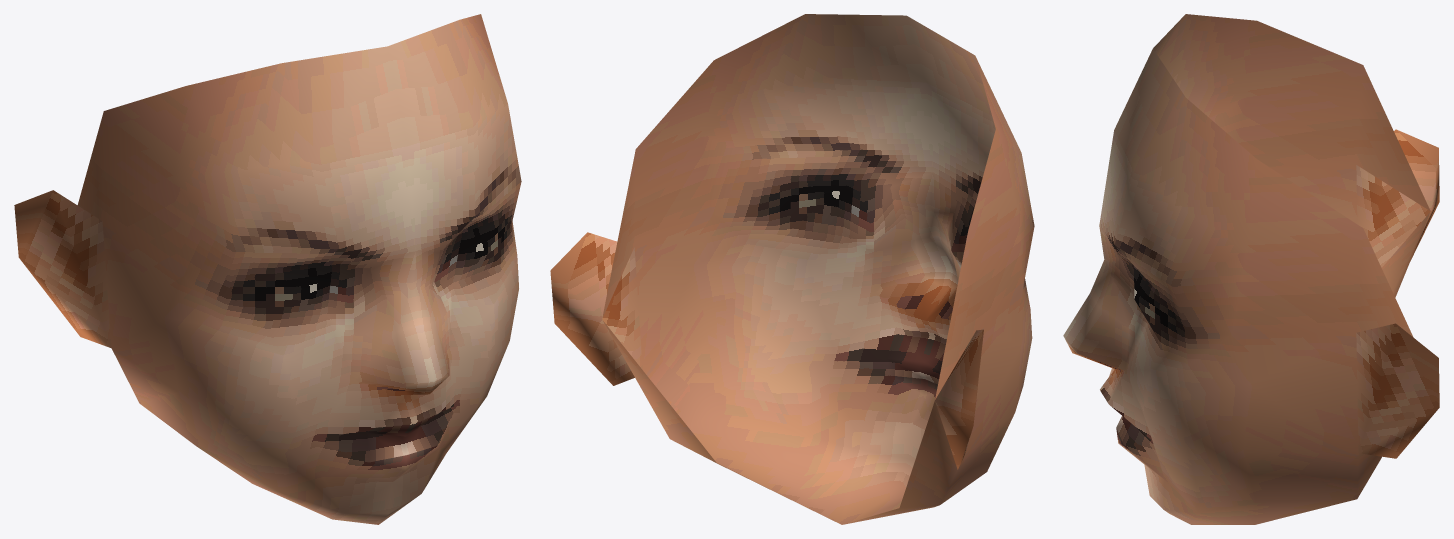
The model's file is f_hair018.glb.
3 views of the same model, side by side, from view 1: azimuth 30°, elevation 25°; view 2: azimuth 150°, elevation 25°; view 3: azimuth 270°, elevation 25° (orthographic). The views are drawn at different scales.
Size of the model in its own units: 19.4 by 20.26 by 14.69.
Materials: 1 (1 with a texture image).
